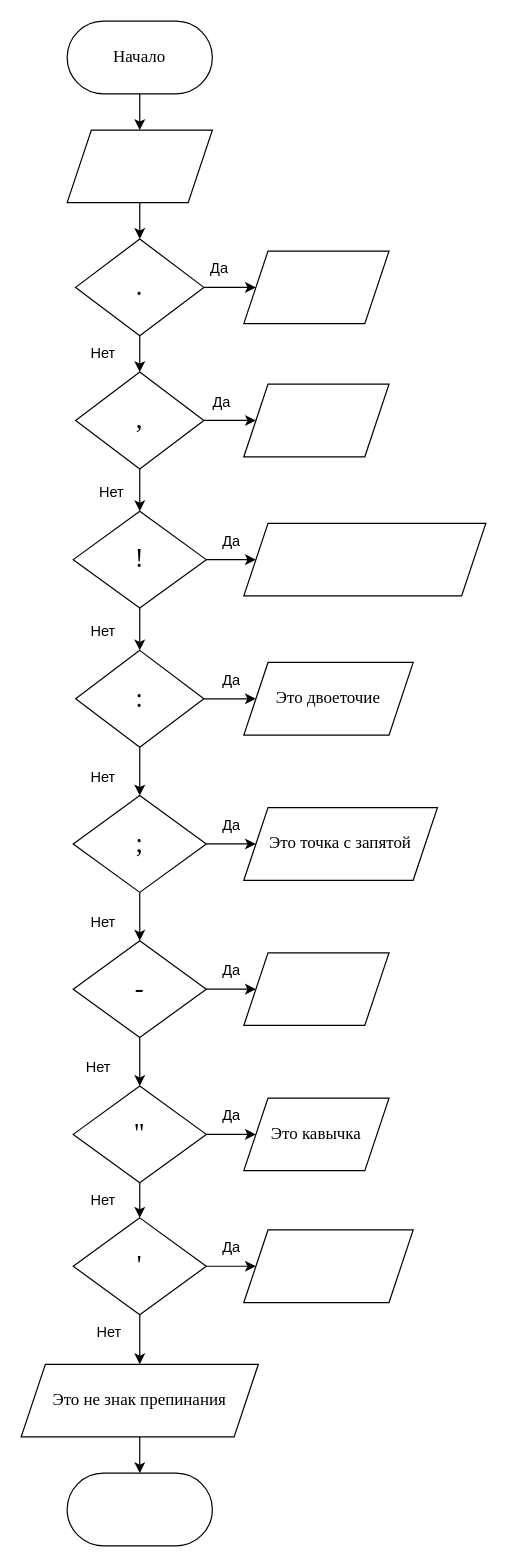
This 507x1567 diagram has some shape labels left out. The box of each missing label's shape, as (x1, y1, x2, y2) in pixels:
symbol: (66, 129, 212, 203)
Конец: (66, 1472, 212, 1546)
Это апостроф: (243, 1229, 413, 1303)
Это восклицательный знак: (243, 522, 486, 596)
Это дефис: (243, 952, 389, 1025)
Это запятая: (243, 383, 389, 457)
Это точка: (243, 250, 389, 324)
